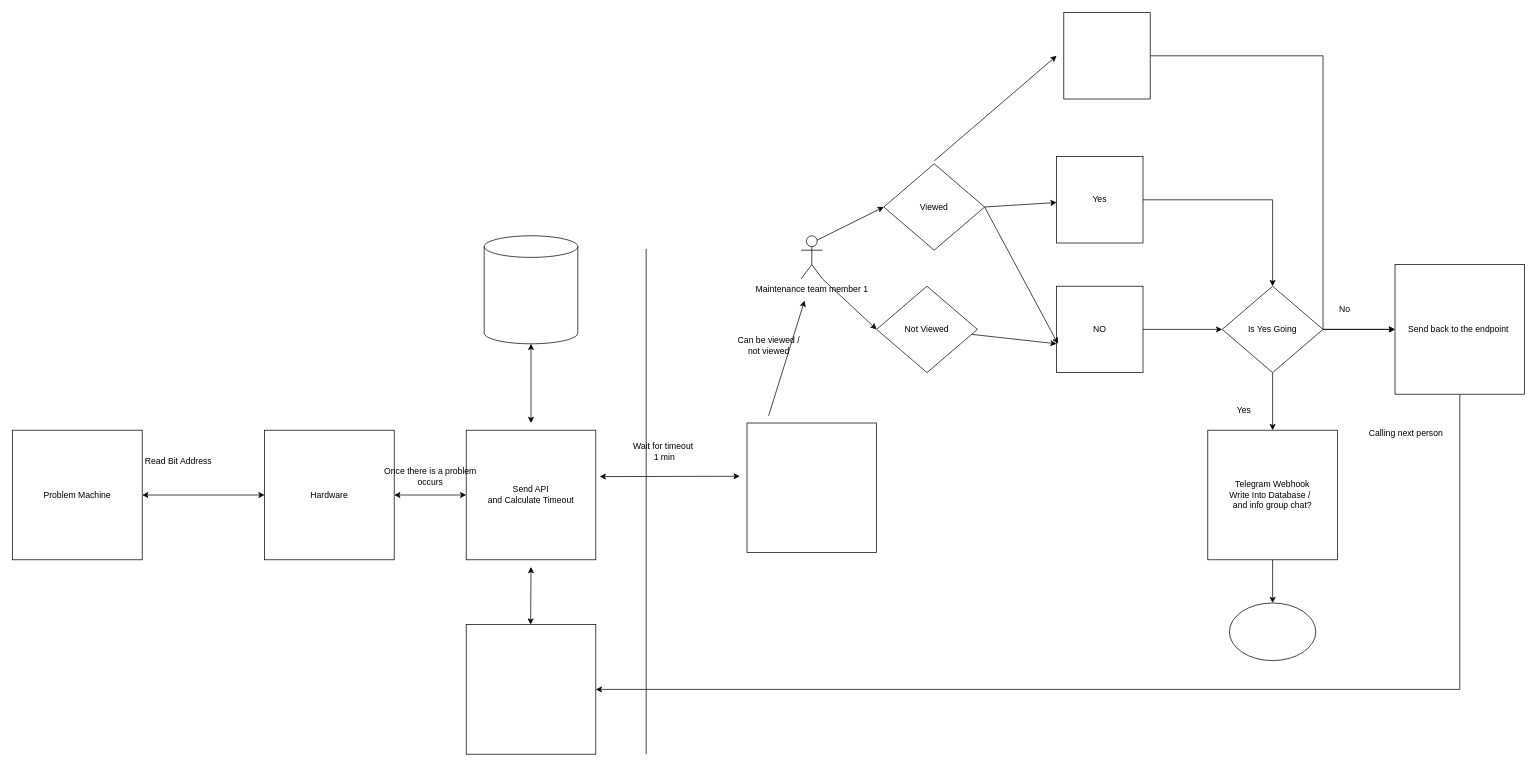
The diagram is 1537 pixels wide and 768 high, and some of its shapes have lost their labels. Each missing label, with the centre of its shape:
API endpoint receive webhook API send: the point at 530,689
Cancel (Due to something?): the point at 1106,55
Chat ID Username: the point at 530,289
STOP: the point at 1272,631
Telegram User Personal Receive Alert: the point at 811,487
